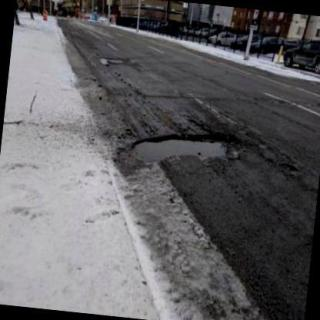pothole: (122, 135, 246, 168)
